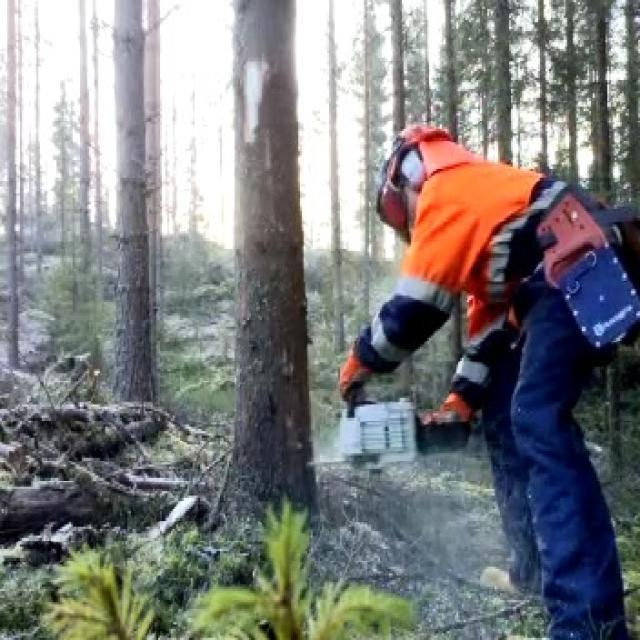Chainsaw: (303, 366, 485, 479)
